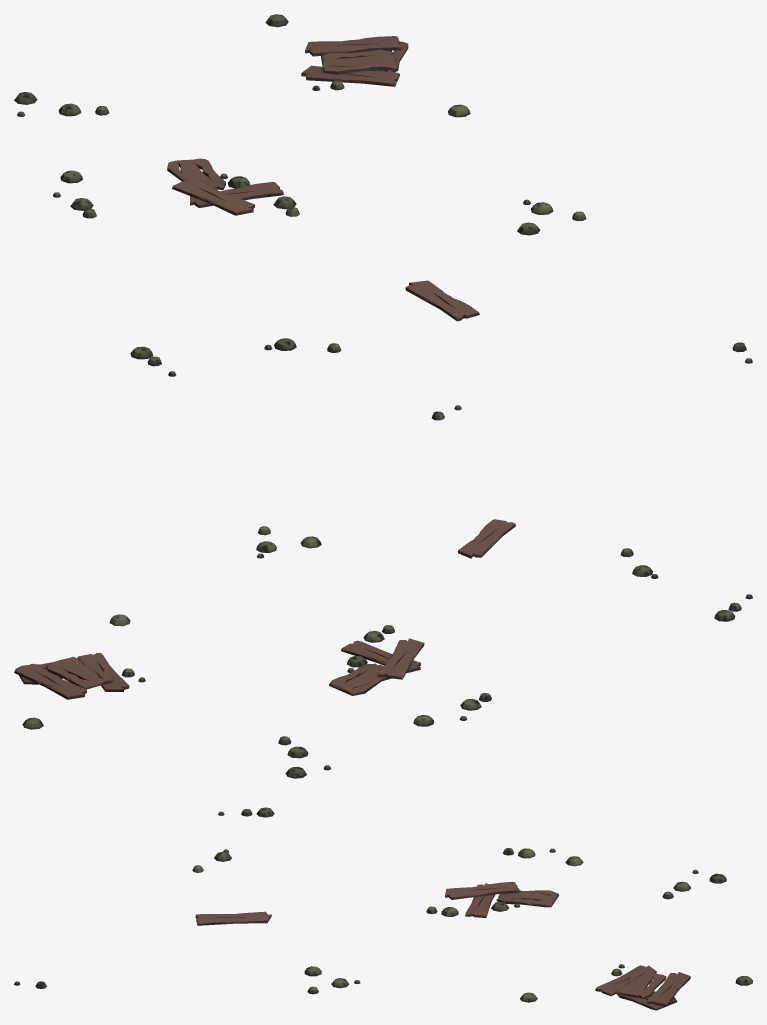
File: Wood_01.FBX
3 renders of one model, top to bottom at view 1: azimuth 30°, elevation 25°; view 2: azimuth 150°, elevation 25°; view 3: azimuth 270°, elevation 25°, orthographic. The views are drawn at different scales.
Visible parts, largest first — view 1: Wood_01; view 2: Wood_01; view 3: Wood_01.
Part boxes in pixels (left/top/right/bottom): Wood_01: left=14, top=14, right=752, bottom=376; Wood_01: left=14, top=405, right=752, bottom=778; Wood_01: left=14, top=807, right=752, bottom=1010.
Size of the model in its own units: 17.62 by 0.2081 by 27.42.
